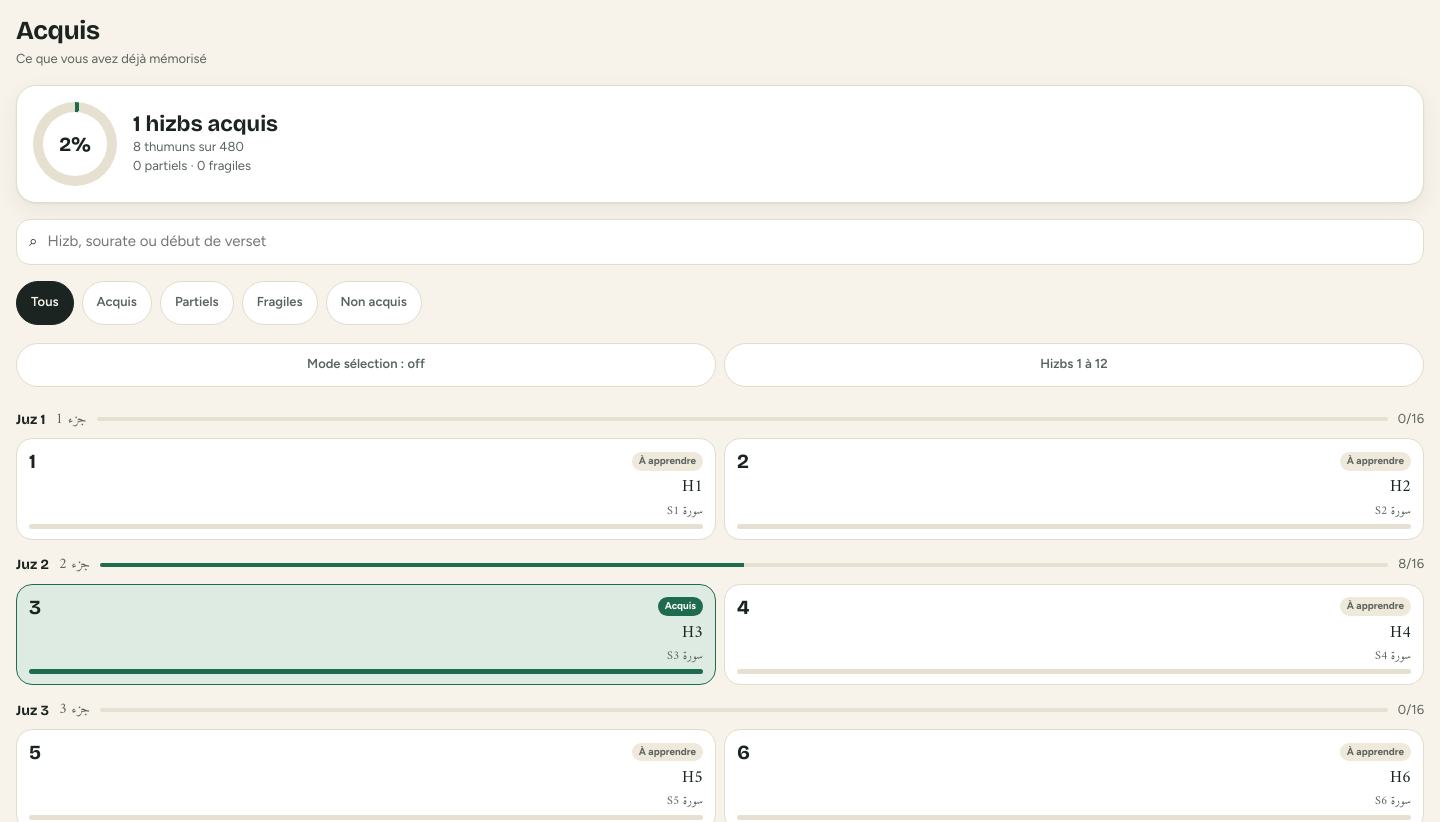
Test: Acquis : annulation (Ruling 25) › tap qui retire un hizb : toast « Annuler » → UNDO
Press the mouse on the button "3 Acquis H3 سورة S3": coordinates (680, 607) [16,584,716,685]
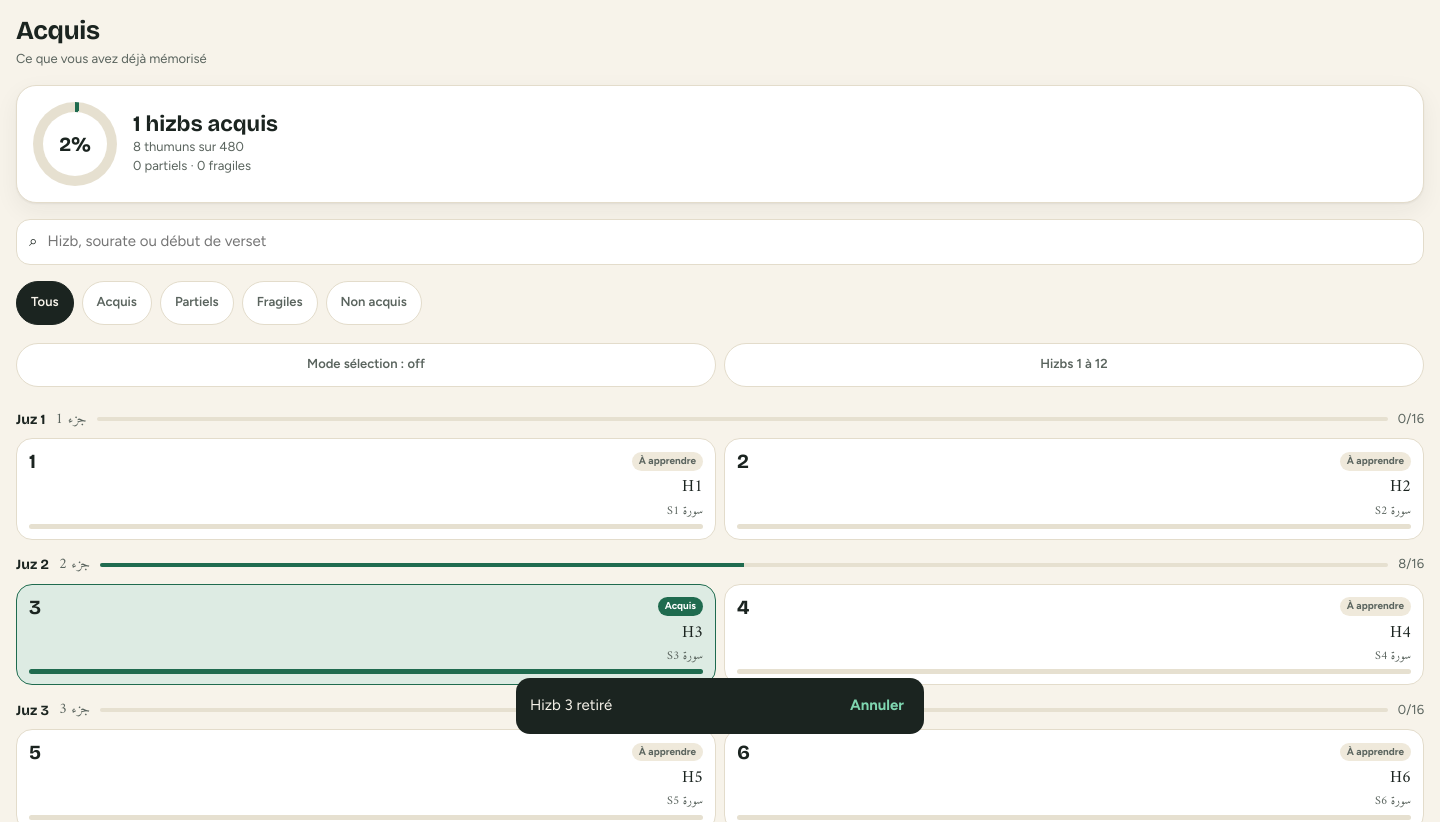
Check: the message shows "Hizb 3 retiré", box [530,696,612,714]
Click the button "Annuler": coordinates (877, 706) [838,684,916,728]
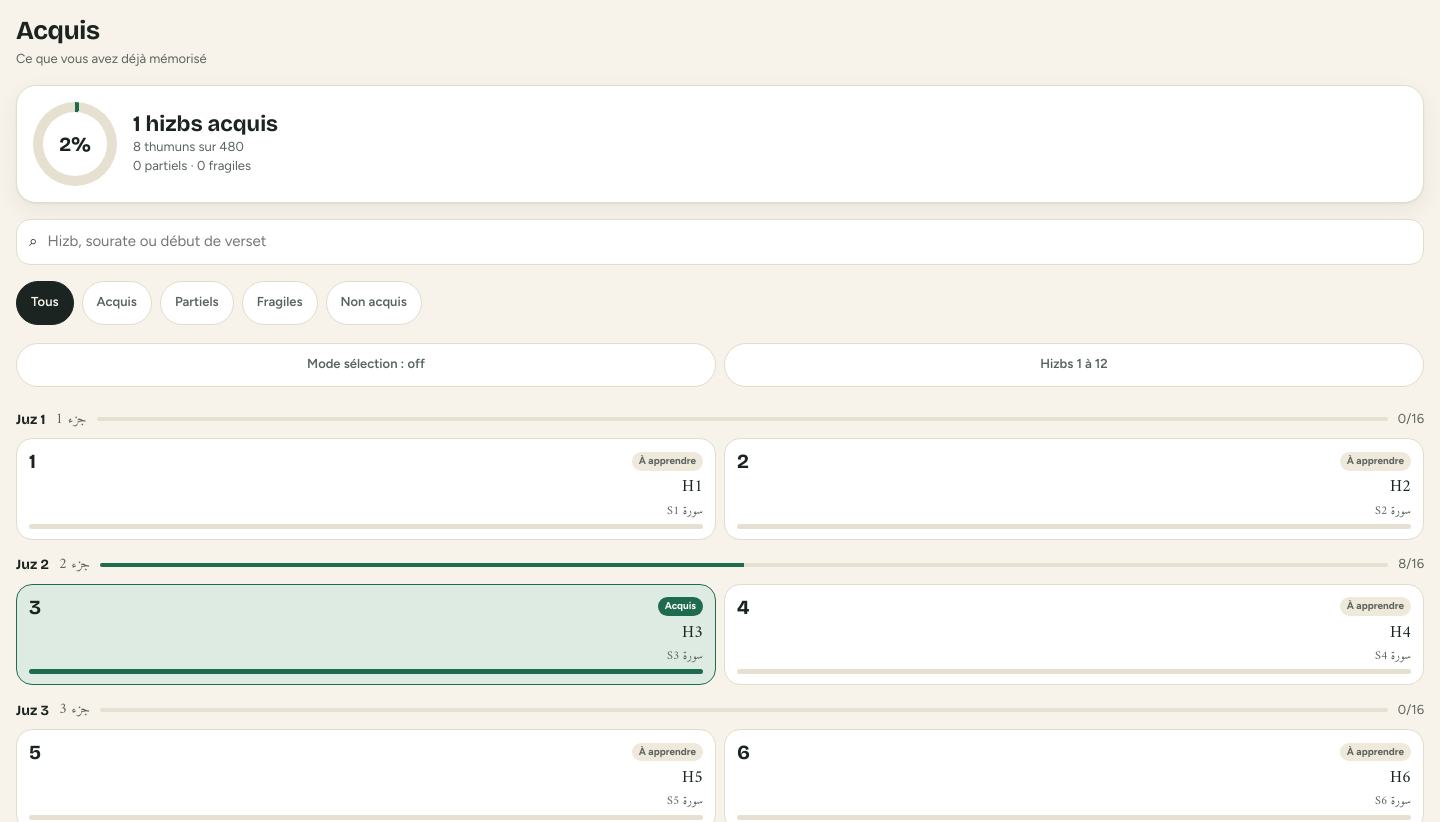
Check: the message "Hizb 3 retiré Annuler" is gone
